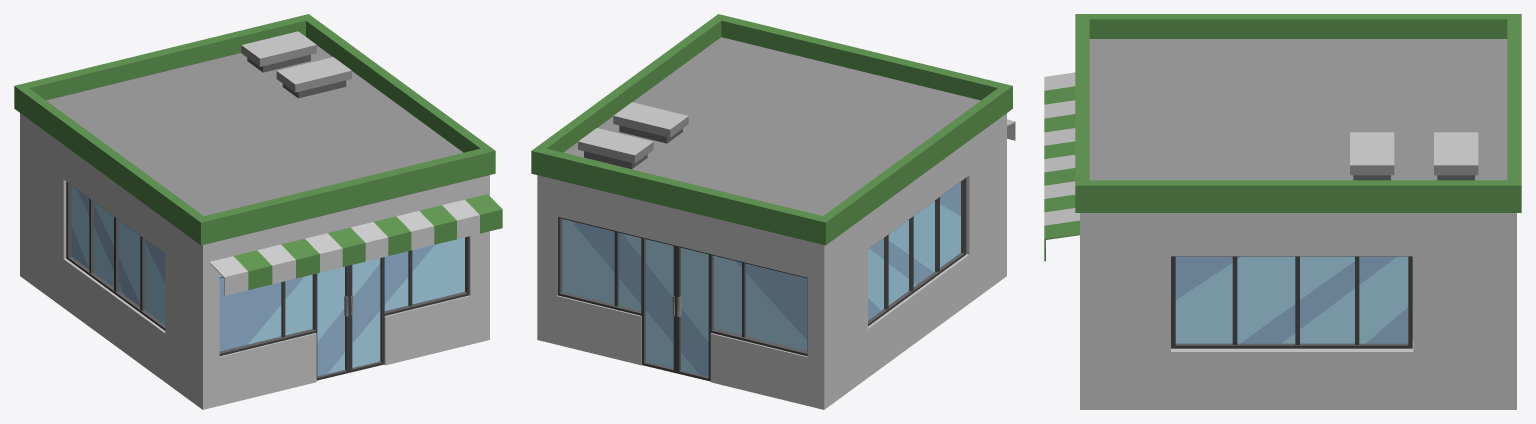
File: cafe_007.glb
3 renders of one model, left to right at view 1: azimuth 30°, elevation 25°; view 2: azimuth 150°, elevation 25°; view 3: azimuth 270°, elevation 25°, orthographic. The views are drawn at different scales.
Visible parts, largest first — view 1: cafe_007; view 2: cafe_007; view 3: cafe_007.
Part boxes in pixels (x1,y1,x2,y2): cafe_007: [14, 14, 502, 409]; cafe_007: [531, 14, 1015, 409]; cafe_007: [1044, 14, 1521, 409].
Bounding box in the file's own units: 5.2 × 3.25 × 6.11.
Materials: 1 (1 with a texture image).
